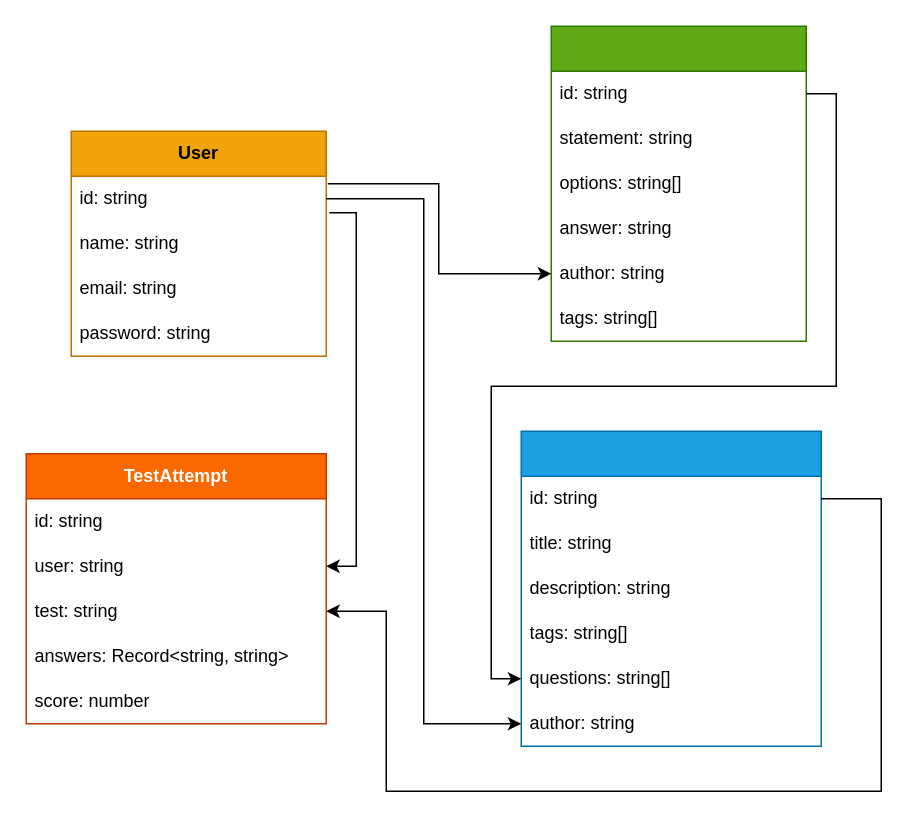
This 920x830 diagram has some shape labels left out. Each missing label, with the box of its shape:
Question: (550, 25, 806, 341)
Test: (520, 430, 821, 746)
